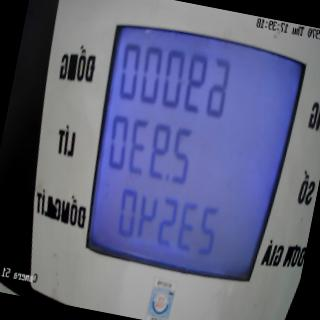screen: (66, 0, 314, 297)
